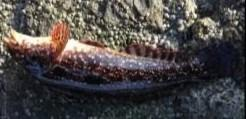fish: (5, 23, 242, 91)
